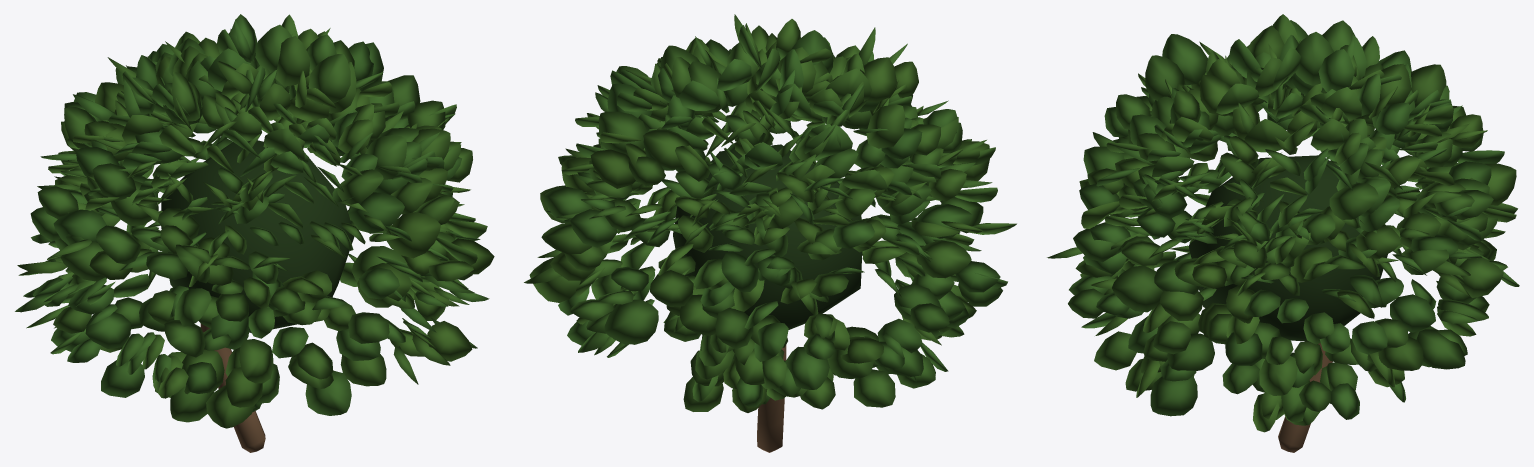
File: bed_boxball.glb
3 views of the same model, side by side, from view 1: azimuth 30°, elevation 25°; view 2: azimuth 150°, elevation 25°; view 3: azimuth 270°, elevation 25° (orthographic).
Visible parts, largest first — view 1: Sammel Pflanze, Sammel Blatt, Sammel Holz; view 2: Sammel Pflanze, Sammel Blatt, Sammel Holz; view 3: Sammel Pflanze, Sammel Blatt, Sammel Holz.
Boxes of the visible parts, <box> form: Sammel Pflanze: <box>15,14,494,428</box>; Sammel Blatt: <box>161,140,354,333</box>; Sammel Holz: <box>200,323,265,452</box>; Sammel Pflanze: <box>524,14,1016,412</box>; Sammel Blatt: <box>673,144,862,329</box>; Sammel Holz: <box>757,345,786,452</box>; Sammel Pflanze: <box>1047,14,1519,432</box>; Sammel Blatt: <box>1188,155,1387,341</box>; Sammel Holz: <box>1278,343,1332,452</box>.
Bounding box in the file's own units: 0.5182 × 0.5175 × 0.5328.
